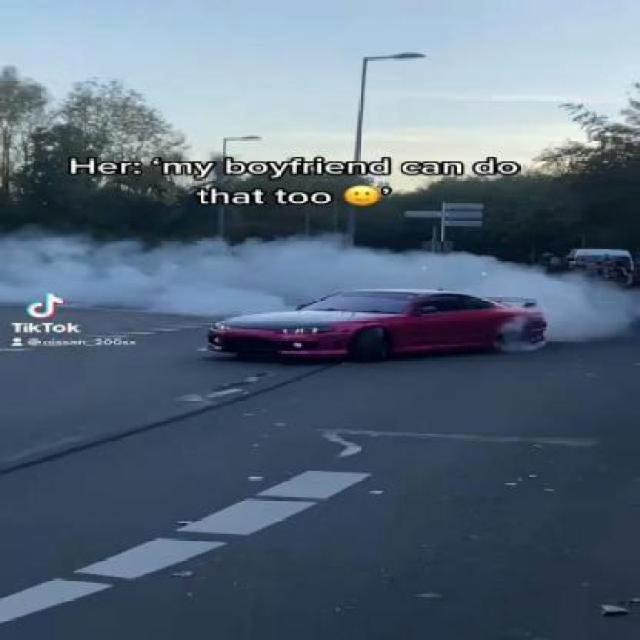car: (209, 287, 554, 366)
